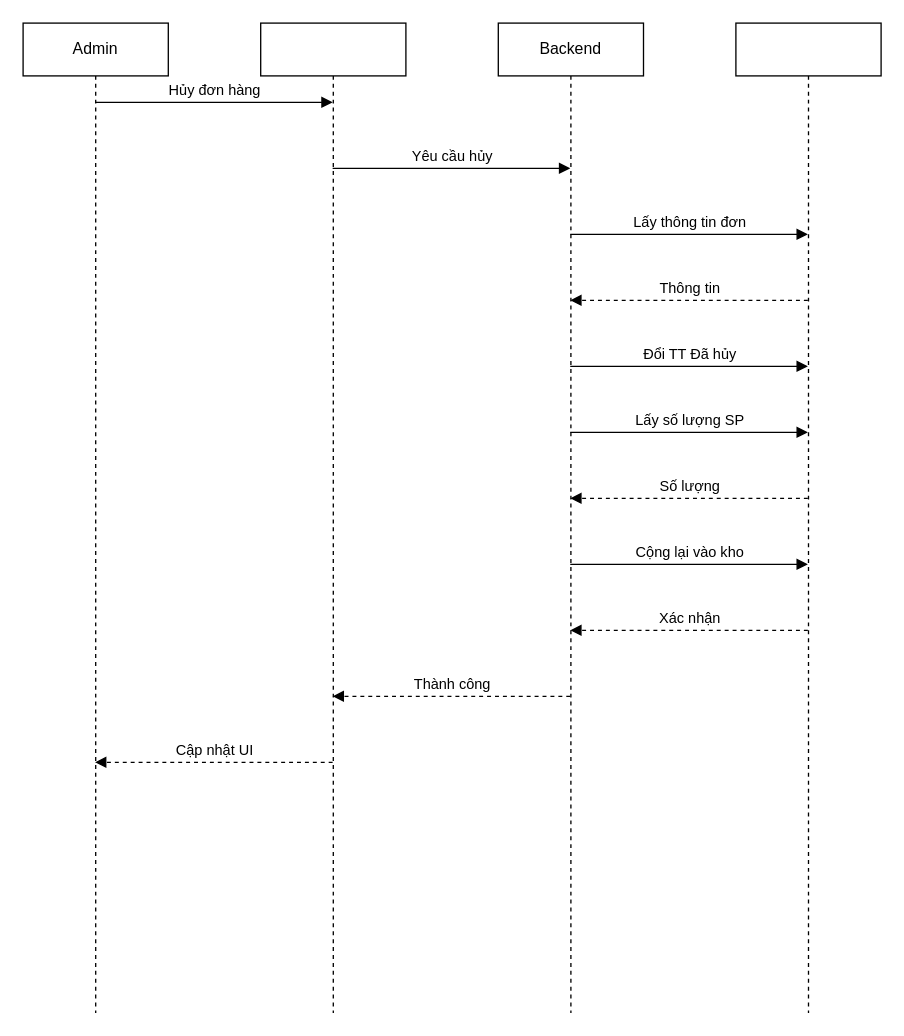
Image size: 904x1036. Some labels were removed from this diagram. Here are the shapes that lost their labels. From the top down, the box of each, then its label:
(259, 22, 406, 1013): Frontend
(735, 22, 881, 1013): Database
